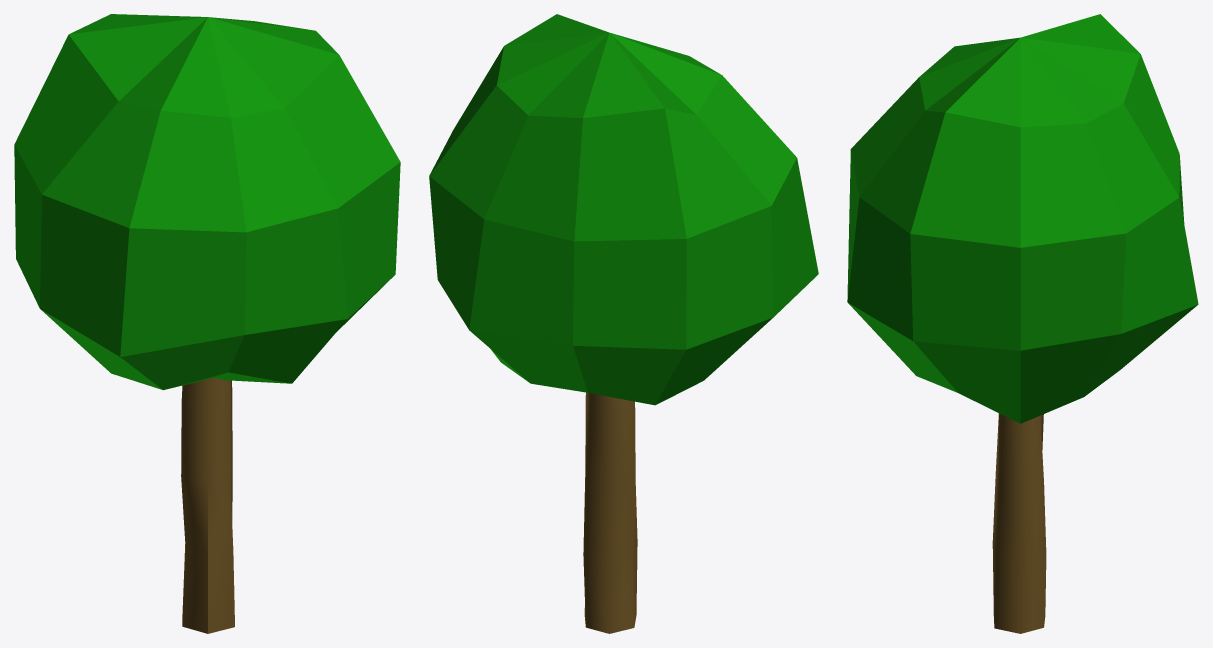
The model's file is tree.fbx.
The picture shows the model from 3 angles, left to right: view 1: azimuth 30°, elevation 25°; view 2: azimuth 150°, elevation 25°; view 3: azimuth 270°, elevation 25°; orthographic projection. The views are drawn at different scales.
Parts seen in each view (by area): view 1: Foliage, Trunk; view 2: Foliage, Trunk; view 3: Foliage, Trunk.
Boxes of the visible parts, x1=… form: Foliage: x1=14, y1=14, x2=400, y2=390; Trunk: x1=181, y1=378, x2=234, y2=633; Foliage: x1=429, y1=14, x2=818, y2=405; Trunk: x1=583, y1=392, x2=637, y2=633; Foliage: x1=847, y1=14, x2=1198, y2=423; Trunk: x1=992, y1=413, x2=1046, y2=633.
Size of the model in its own units: 194 by 341 by 186.
